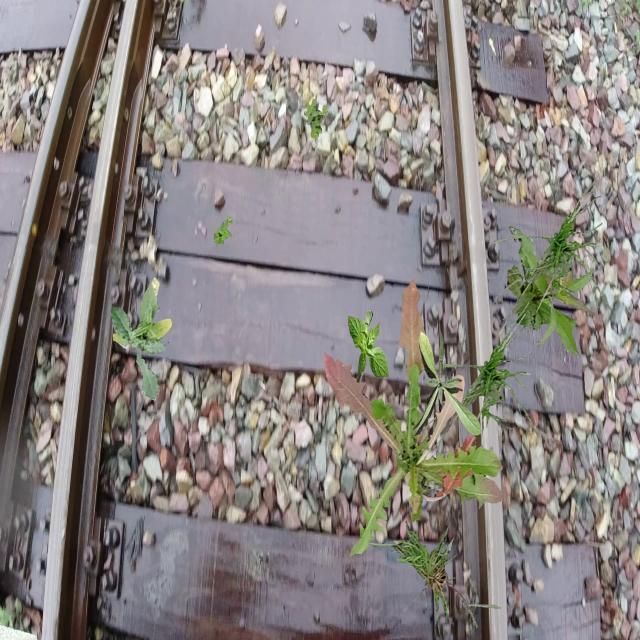Plant: (324, 279, 504, 557), (421, 302, 540, 466), (491, 173, 610, 337), (358, 520, 502, 640), (507, 227, 596, 357), (410, 330, 482, 438), (110, 277, 172, 402), (348, 310, 390, 381), (304, 99, 328, 140), (213, 216, 232, 248)
